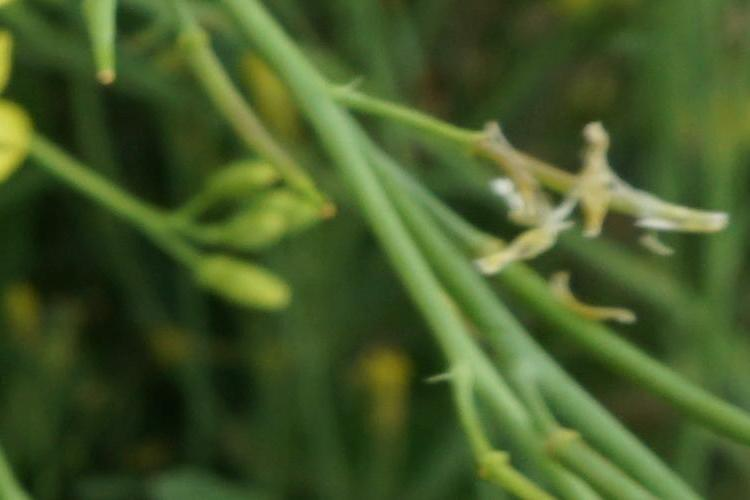bud: (188, 260, 293, 313), (193, 149, 274, 196), (208, 213, 287, 254)
